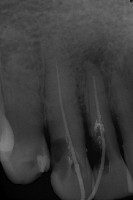Furcation Involvement: (85, 40, 109, 66)
